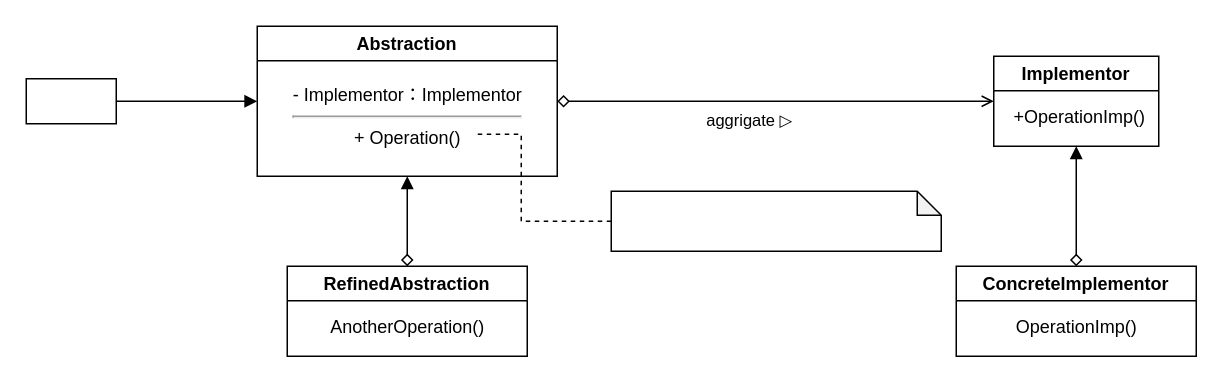
This 1223x383 diagram has some shape labels left out. Here are the shapes that lost their labels. From the top down, the centre of each, then its label:
the point at 70,100: Client
the point at 775,220: Implementor -> OperationImp()
